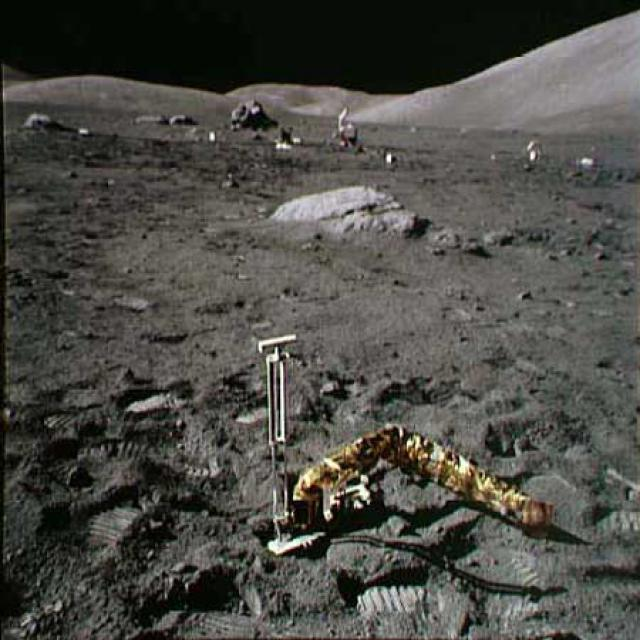artifact: (247, 324, 551, 564), (328, 106, 364, 154), (272, 124, 304, 152), (521, 130, 546, 165), (576, 145, 602, 167)
rock: (269, 182, 422, 238), (227, 98, 277, 130), (16, 106, 59, 132), (481, 224, 521, 246), (428, 226, 460, 246), (133, 110, 166, 126), (170, 113, 194, 127), (466, 241, 484, 258)
